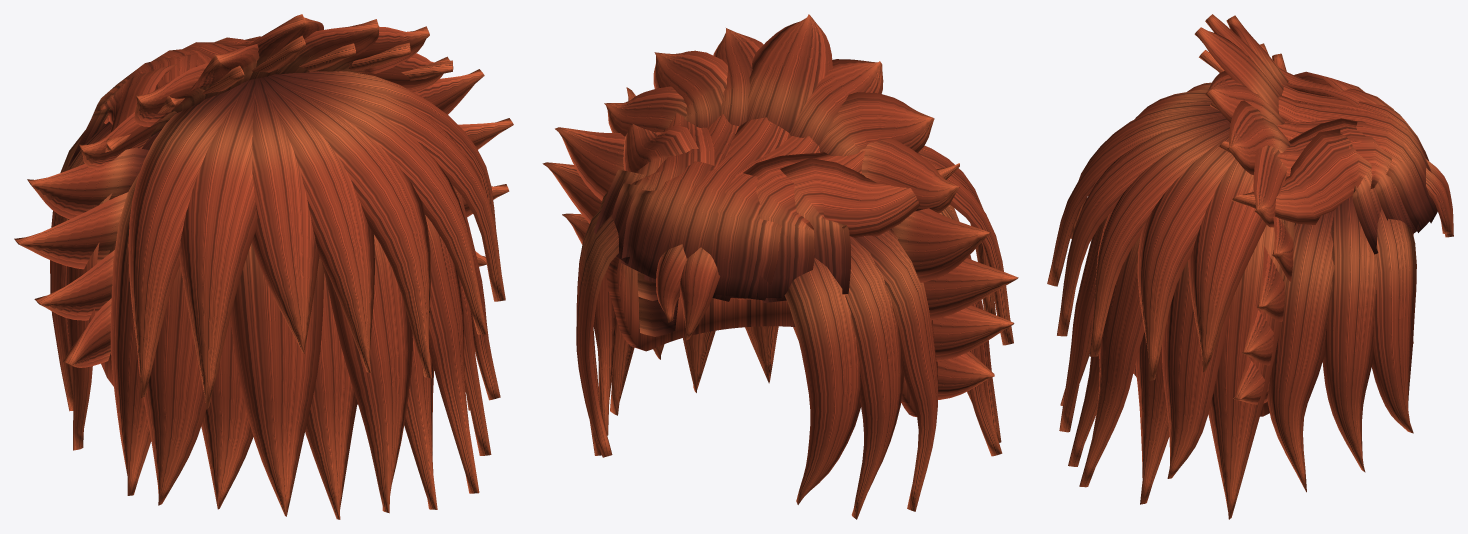
File: rook_hair.fbx
3 renders of one model, left to right at view 1: azimuth 30°, elevation 25°; view 2: azimuth 150°, elevation 25°; view 3: azimuth 270°, elevation 25°, orthographic. The views are drawn at different scales.
Parts seen in each view (by area): view 1: RookHair; view 2: RookHair; view 3: RookHair.
Boxes of the visible parts, left/top/right/bottom form: RookHair: left=14, top=14, right=513, bottom=519; RookHair: left=542, top=14, right=1018, bottom=519; RookHair: left=1047, top=14, right=1453, bottom=519.
Size of the model in its own units: 237 by 210 by 187.
1 material, 1 textured.
